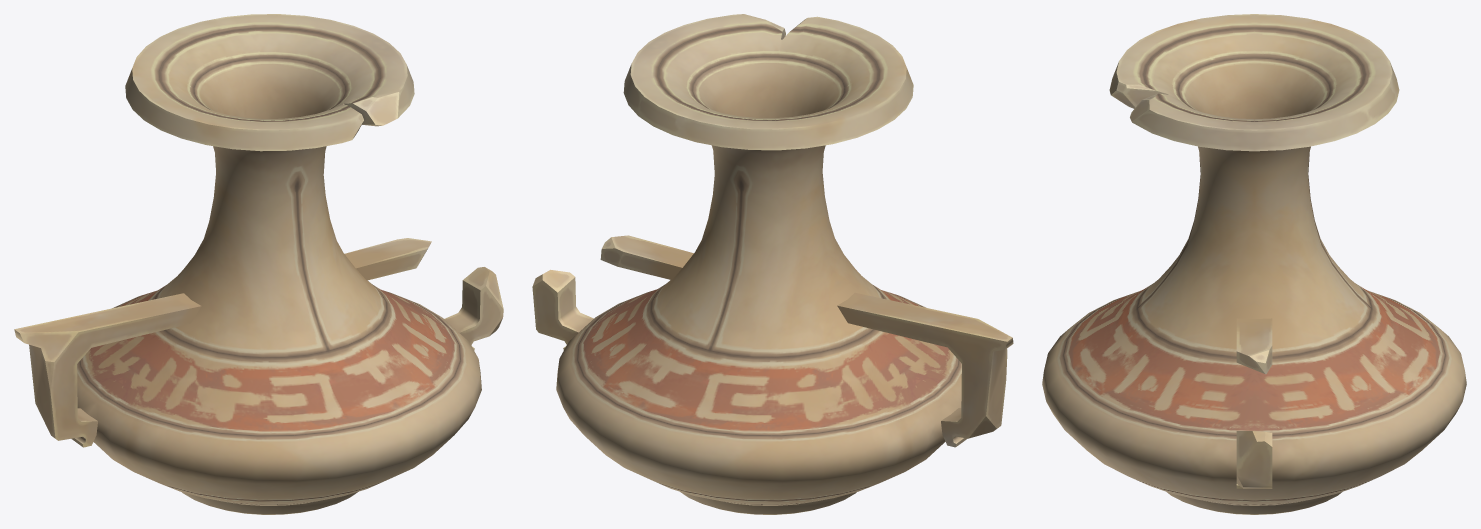
The model's file is SM_PROP_pot_01.fbx.
The picture shows the model from 3 angles, left to right: view 1: azimuth 30°, elevation 25°; view 2: azimuth 150°, elevation 25°; view 3: azimuth 270°, elevation 25°; orthographic projection.
Parts seen in each view (by area): view 1: SM_PROP_pot_01_LOD0; view 2: SM_PROP_pot_01_LOD0; view 3: SM_PROP_pot_01_LOD0.
Boxes of the visible parts, bbox=[...] form: SM_PROP_pot_01_LOD0: bbox=[14, 14, 503, 514]; SM_PROP_pot_01_LOD0: bbox=[532, 14, 1013, 514]; SM_PROP_pot_01_LOD0: bbox=[1042, 14, 1466, 514].
Size of what is drawn, in the model's own units: 225 by 183 by 175.
